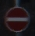No entry: (5, 6, 30, 31)
